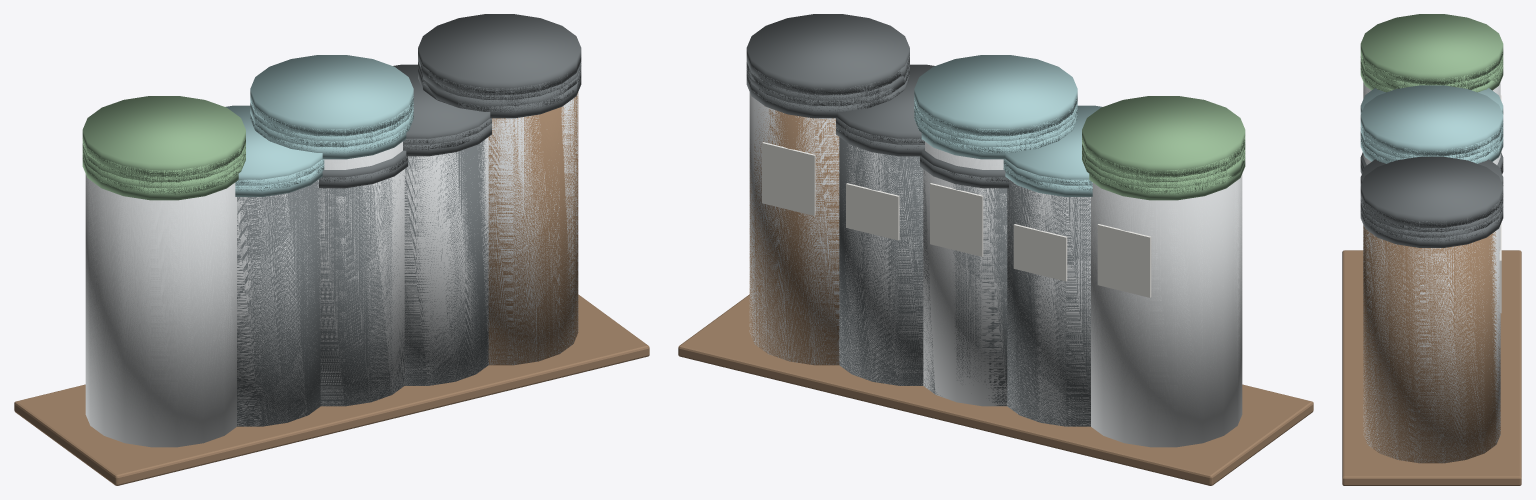
File: Gear15.fbx
3 views of the same model, side by side, from view 1: azimuth 30°, elevation 25°; view 2: azimuth 150°, elevation 25°; view 3: azimuth 270°, elevation 25° (orthographic). The views are drawn at different scales.
Parts seen in each view (by area): view 1: Gear15_V10_BrushedSteel, Gear15_V10_Walnut, Gear15_V6_BrushedSteel, Gear15_V3_Charcoal, Gear15_V4_BrushedSteel, Gear15_V1_Charcoal, Gear15_V5_BrushedSteel, Gear15_V7_BrushedSteel, Gear15_V10_Blue, Gear15_V10_Leaf, Gear15_V10_Charcoal, Gear15_V8_BrushedSteel (+21 smaller); view 2: Gear15_V10_BrushedSteel, Gear15_V3_Charcoal, Gear15_V10_Walnut, Gear15_V6_BrushedSteel, Gear15_V7_BrushedSteel, Gear15_V4_BrushedSteel, Gear15_V10_Blue, Gear15_V10_Leaf, Gear15_V10_Charcoal, Gear15_V5_BrushedSteel, Gear15_V1_Charcoal, Gear15_V10_Paper (+27 smaller); view 3: Gear15_V10_Walnut, Gear15_V7_BrushedSteel, Gear15_V10_Charcoal, Gear15_V10_Blue, Gear15_V10_Leaf, Gear15_V6_BrushedSteel, Gear15_V9_Walnut, Gear15_V8_Walnut, Gear15_V6_Charcoal, Gear15_V7_Charcoal, Gear15_V8_Charcoal, Gear15_V8_Leaf (+10 smaller).
Boxes of the visible parts, x1,y1,x2,y2 form: Gear15_V10_BrushedSteel: [85, 142, 404, 447]; Gear15_V10_Walnut: [14, 93, 649, 485]; Gear15_V6_BrushedSteel: [85, 93, 578, 447]; Gear15_V3_Charcoal: [237, 123, 491, 426]; Gear15_V4_BrushedSteel: [237, 137, 488, 426]; Gear15_V1_Charcoal: [319, 156, 407, 406]; Gear15_V5_BrushedSteel: [237, 138, 488, 426]; Gear15_V7_BrushedSteel: [85, 94, 578, 446]; Gear15_V10_Blue: [250, 55, 413, 136]; Gear15_V10_Leaf: [82, 96, 245, 177]; Gear15_V10_Charcoal: [418, 14, 581, 95]; Gear15_V8_BrushedSteel: [87, 143, 404, 447]; Gear15_V10_BrushedSteel: [923, 145, 1242, 447]; Gear15_V3_Charcoal: [836, 123, 1090, 426]; Gear15_V10_Walnut: [678, 110, 1313, 485]; Gear15_V6_BrushedSteel: [749, 92, 1242, 446]; Gear15_V7_BrushedSteel: [749, 96, 1239, 446]; Gear15_V4_BrushedSteel: [839, 145, 1090, 426]; Gear15_V10_Blue: [914, 55, 1077, 136]; Gear15_V10_Leaf: [1082, 96, 1245, 177]; Gear15_V10_Charcoal: [746, 14, 909, 95]; Gear15_V5_BrushedSteel: [839, 144, 1090, 426]; Gear15_V1_Charcoal: [920, 156, 1008, 405]; Gear15_V10_Paper: [762, 142, 1151, 280]; Gear15_V10_Walnut: [1342, 225, 1521, 485]; Gear15_V7_BrushedSteel: [1363, 88, 1500, 462]; Gear15_V10_Charcoal: [1360, 156, 1503, 227]; Gear15_V10_Blue: [1360, 85, 1503, 156]; Gear15_V10_Leaf: [1360, 14, 1503, 84]; Gear15_V6_BrushedSteel: [1363, 82, 1500, 463]; Gear15_V9_Walnut: [1363, 232, 1496, 463]; Gear15_V8_Walnut: [1363, 232, 1500, 462]; Gear15_V6_Charcoal: [1360, 208, 1503, 247]; Gear15_V7_Charcoal: [1360, 203, 1503, 242]; Gear15_V8_Charcoal: [1360, 198, 1503, 237]; Gear15_V8_Leaf: [1360, 55, 1503, 89].
Size of the model in its own units: 102 by 53.9 by 34.
